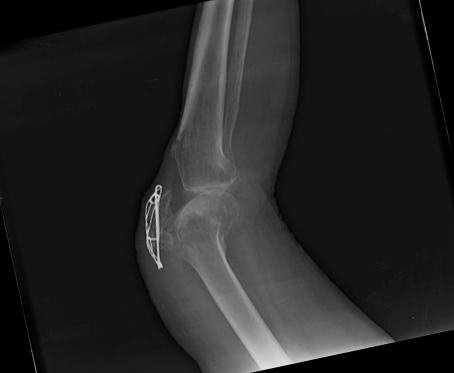fractured: (140, 189, 173, 251)
